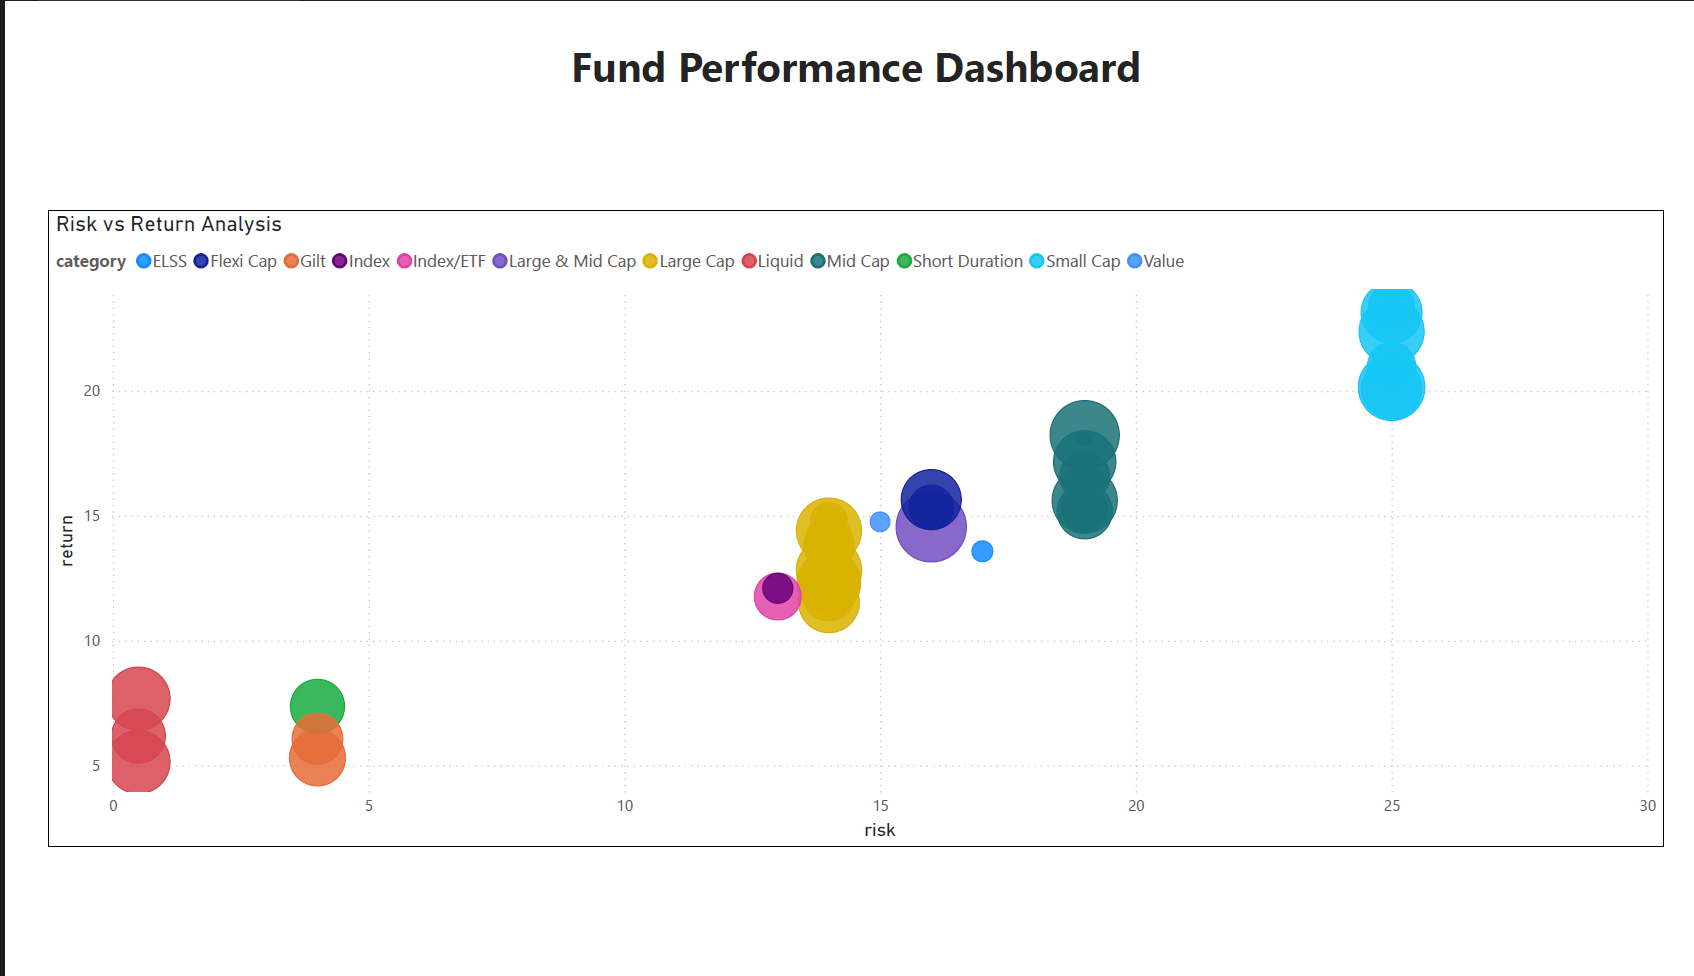

This screenshot's page, from the dashboard's own definition file:
{"tool":"powerbi","page":{"name":"Page 2","canvas":[1280,720],"ordinal":1},"visuals":[{"type":"textbox","box":[9.6,0,1270.7,279.9],"z":0},{"type":"scatterChart","title":"Risk vs Return Analysis","fields":{"X":["Sum(07_scheme_performance.std_dev_ann_pct)"],"Y":["Sum(07_scheme_performance.return_3yr_pct)"],"Size":["Sum(07_scheme_performance.aum_crore)"],"Series":["07_scheme_performance.category"],"Category":["07_scheme_performance.scheme_name"]},"box":[9.6,140,1270.7,500.9],"z":1000}]}

Visuals, with their boxes in screenshot pixels (x1, y1, x2, y2), scaled from the page's 1280x720 canvas onto the 1694x976 screenshot:
textbox: region(13, 0, 1693, 379)
"Risk vs Return Analysis" scatterChart: region(13, 190, 1693, 869)
